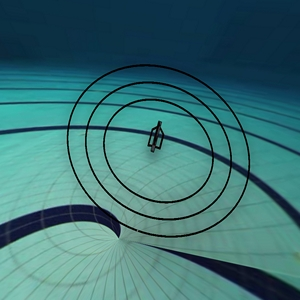circle: (45, 44, 282, 256)
submarine: (139, 119, 181, 166)
